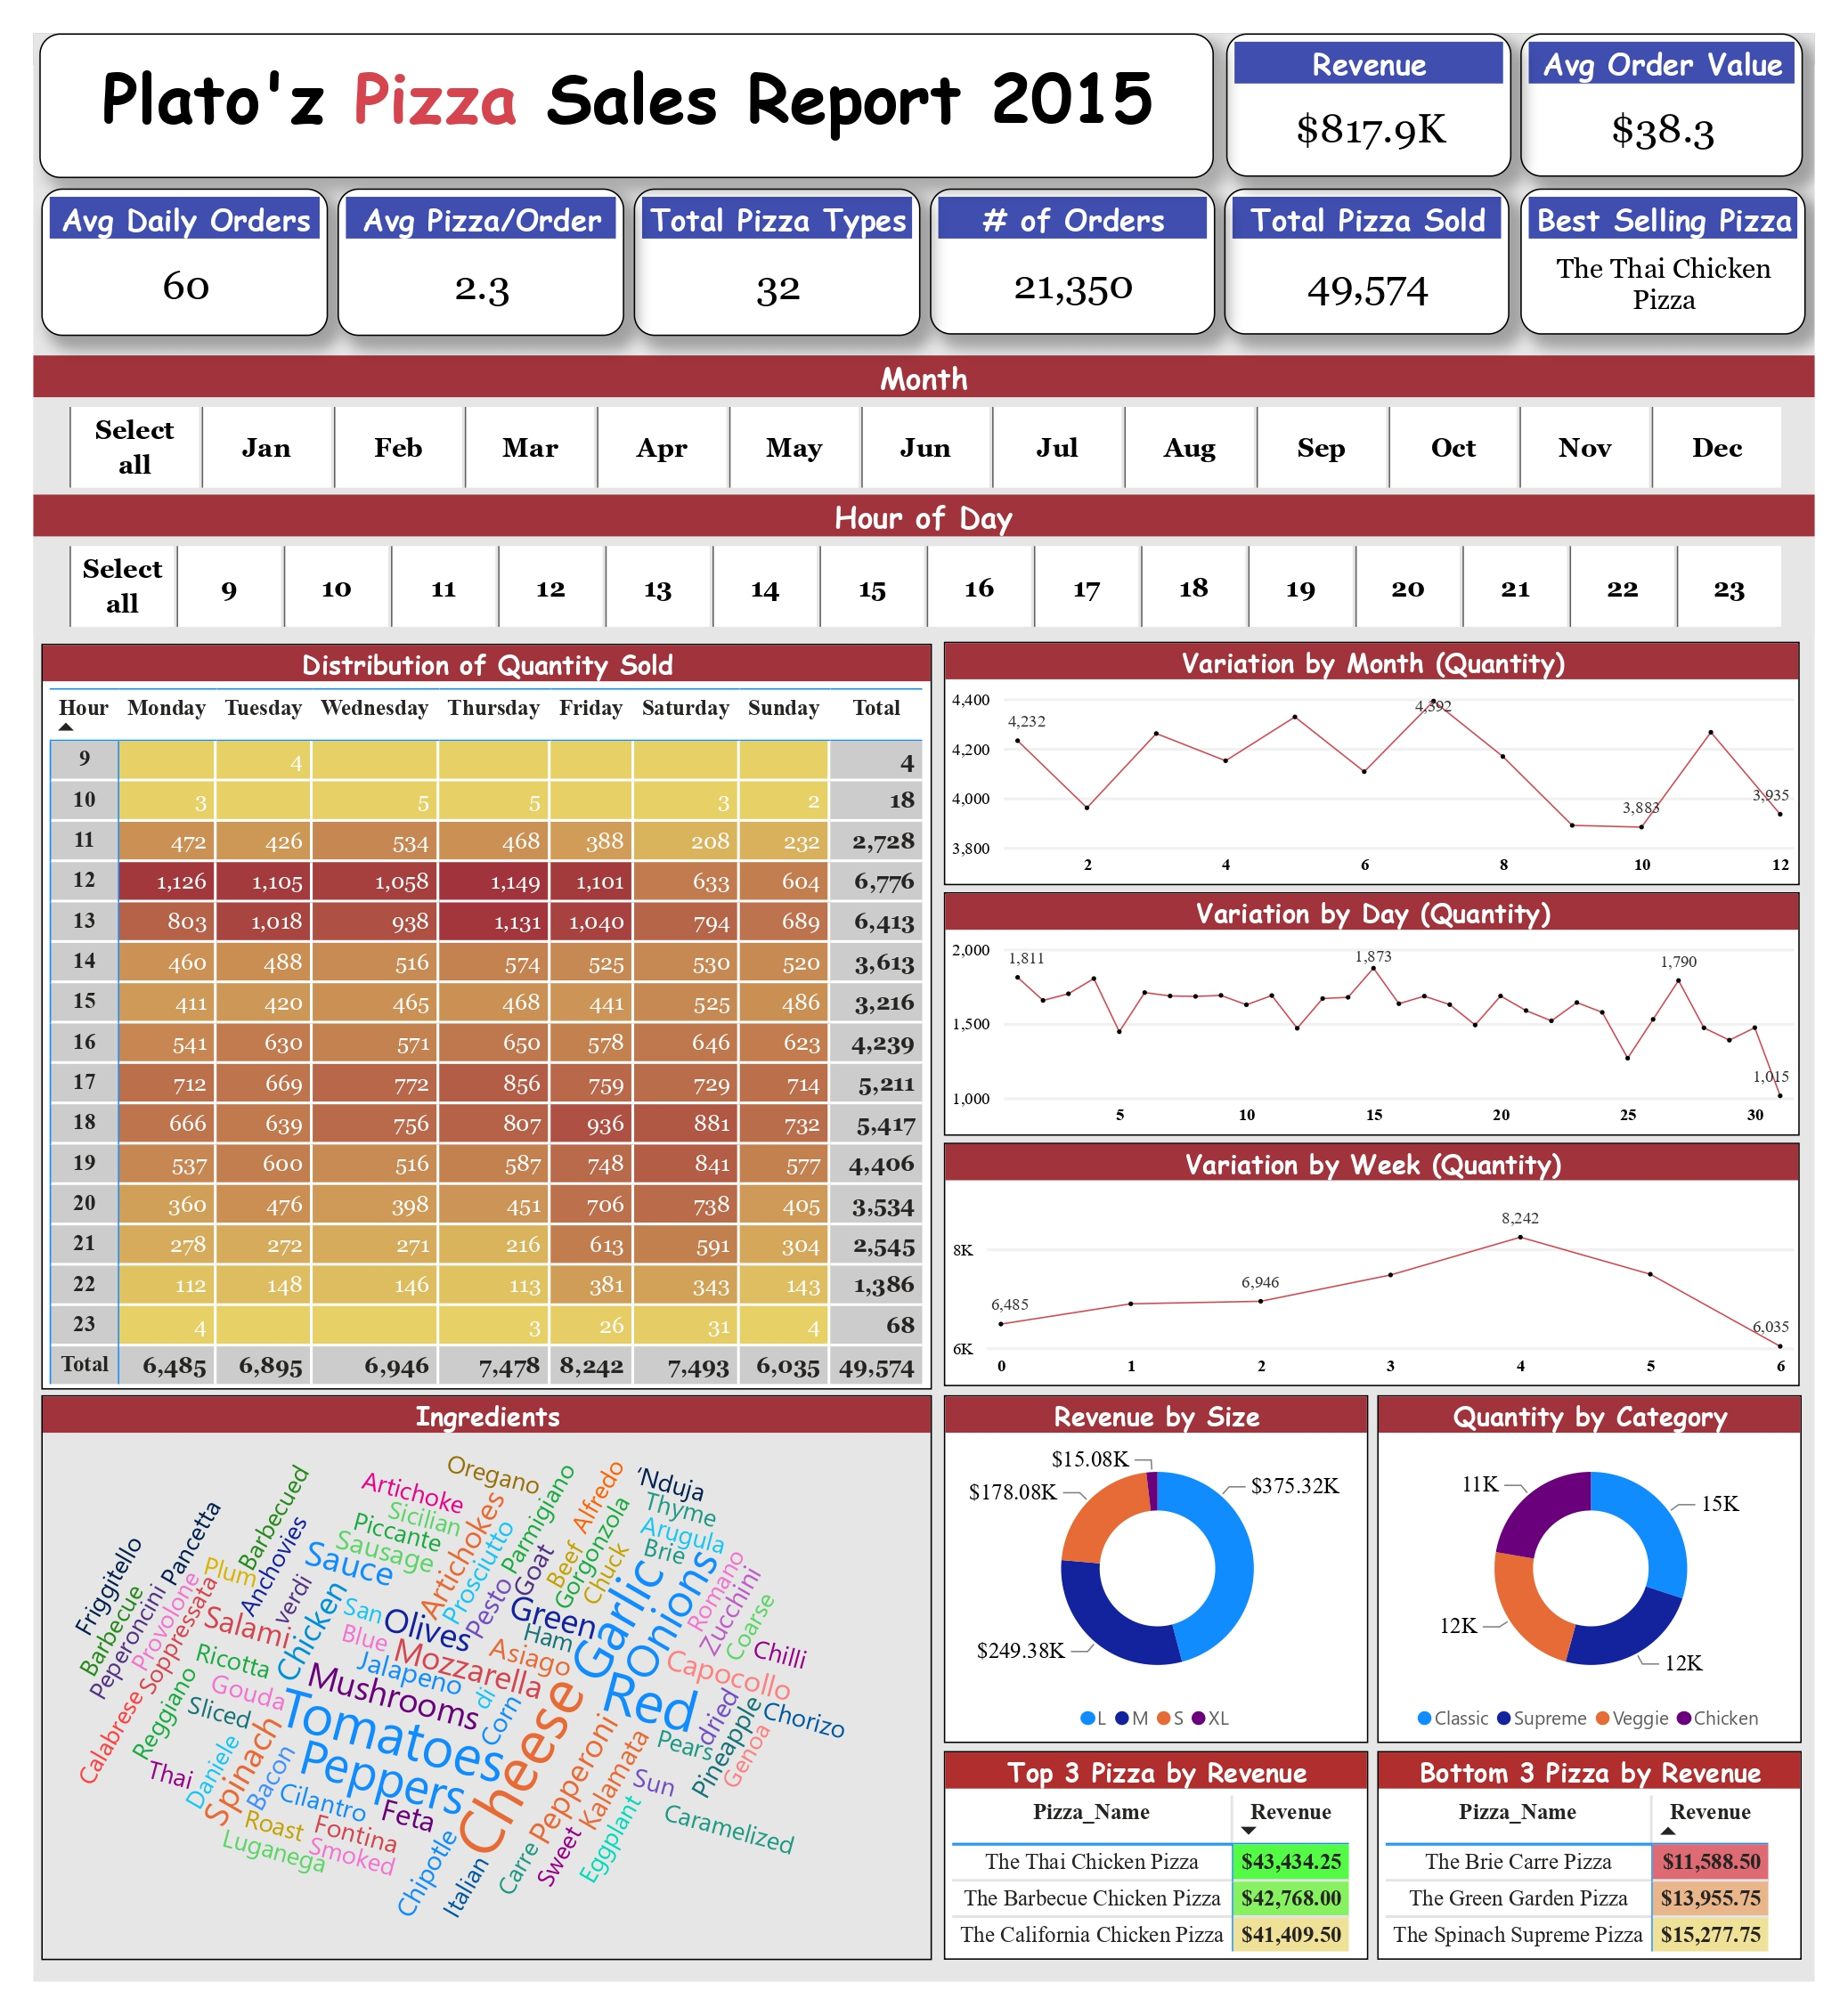

The page's visual inventory and layout, read from the dashboard file:
{"tool":"powerbi","page":{"name":"Main Sheet","canvas":[1280,1400],"ordinal":0},"visuals":[{"type":"slicer","title":"Month","fields":{"Values":["orders.Month Name"]},"box":[0,231.7,1280,100],"z":0},{"type":"card","title":"Total Pizza Sold","fields":{"Values":["order_details.quantity"]},"box":[856.4,112,205,105],"z":1000},{"type":"card","title":"Avg Order Value","fields":{"Values":["order_details.Average Order Value"]},"box":[1068.3,0,203.3,103.3],"z":2000},{"type":"card","title":"Revenue","fields":{"Values":["order_details.Revenue"]},"box":[856.7,0,205,103.3],"z":3000},{"type":"slicer","title":"Hour of Day","fields":{"Values":["orders.Hour"]},"box":[0,331.7,1280,100],"z":4000},{"type":"donutChart","title":"Quantity by Category","fields":{"Category":["pizza_types.category"],"Y":["order_details.quantity"]},"box":[965,978.8,305,250],"z":5000},{"type":"pivotTable","title":"Top 3 Pizza by Revenue","fields":{"Rows":["pizza_types.Pizza_Name"],"Values":["order_details.Revenue"]},"box":[655,1233.7,305,150],"z":6000},{"type":"donutChart","fields":{"Y":["order_details.Revenue"],"Category":["pizzas.Size"]},"box":[655,978.8,305,250],"z":7000},{"type":"card","title":"# of Orders","fields":{"Values":["order_details.Number of Orders"]},"box":[644.5,112,205,105],"z":8000},{"type":"card","title":"Total Pizza Types","fields":{"Values":["pizzas.pizza_type_id"]},"box":[431.8,112,205.7,105.7],"z":9000},{"type":"pivotTable","title":"Distribution of Quantity Sold","fields":{"Rows":["orders.Hour"],"Columns":["orders.Day Name"],"Values":["order_details.Quantity"]},"box":[6,438,640,536],"z":10000},{"type":"lineChart","title":"Variation by Month (Quantity)","fields":{"Y":["order_details.Quantity"],"Category":["orders.Month"]},"box":[655,436.7,615,175],"z":11000},{"type":"lineChart","title":"Variation by Day (Quantity)","fields":{"Y":["order_details.Quantity"],"Category":["orders.Day of Month"]},"box":[655,616.7,615,175],"z":12000},{"type":"lineChart","title":"Variation by Week (Quantity)","fields":{"Y":["order_details.Quantity"],"Category":["orders.Day of Week"]},"box":[655,796.7,615,175],"z":13000},{"type":"pivotTable","title":"Bottom 3 Pizza by Revenue","fields":{"Rows":["pizza_types.Pizza_Name"],"Values":["order_details.Revenue"]},"box":[965,1233.7,305,150],"z":14000},{"type":"card","title":"Best Selling Pizza","fields":{"Values":["pizza_types.Pizza_Name"]},"box":[1068.3,112,205,105],"z":15000},{"type":"textbox","box":[4,0,844,104],"z":16000},{"type":"card","title":"Avg Daily Orders","fields":{"Values":["daily_orders.Daily_orders"]},"box":[6,112,206,106],"z":17000},{"type":"card","title":"Avg Pizza/Order","fields":{"Values":["order_details.Measure1"]},"box":[218.9,112,206,106],"z":18000},{"type":"WordCloud1447959067750","title":"Ingredients","fields":{"Values":["pizza_types.Ingredients"],"Category":["pizza_types.Ingredients"]},"box":[5.7,978.6,640,405.7],"z":19000}]}

Visuals, with their boxes in screenshot pixels (x1, y1, x2, y2), scaled from the page's 1280x1400 canvas onto the 1848x2015 screenshot:
"Month" slicer: detection(0, 334, 1847, 477)
"Total Pizza Sold" card: detection(1236, 161, 1533, 313)
"Avg Order Value" card: detection(1543, 0, 1836, 149)
"Revenue" card: detection(1237, 0, 1533, 149)
"Hour of Day" slicer: detection(0, 477, 1847, 622)
"Quantity by Category" donutChart: detection(1393, 1409, 1834, 1768)
"Top 3 Pizza by Revenue" pivotTable: detection(946, 1775, 1386, 1992)
donutChart - order_details.Revenue x pizzas.Size: detection(946, 1409, 1386, 1768)
"# of Orders" card: detection(931, 161, 1226, 313)
"Total Pizza Types" card: detection(623, 161, 920, 313)
"Distribution of Quantity Sold" pivotTable: detection(9, 630, 932, 1402)
"Variation by Month (Quantity)" lineChart: detection(946, 629, 1834, 881)
"Variation by Day (Quantity)" lineChart: detection(946, 888, 1834, 1140)
"Variation by Week (Quantity)" lineChart: detection(946, 1147, 1834, 1399)
"Bottom 3 Pizza by Revenue" pivotTable: detection(1393, 1775, 1834, 1992)
"Best Selling Pizza" card: detection(1543, 161, 1838, 313)
textbox: detection(5, 0, 1225, 150)
"Avg Daily Orders" card: detection(9, 161, 306, 313)
"Avg Pizza/Order" card: detection(316, 161, 614, 313)
"Ingredients" WordCloud1447959067750: detection(8, 1409, 932, 1993)
